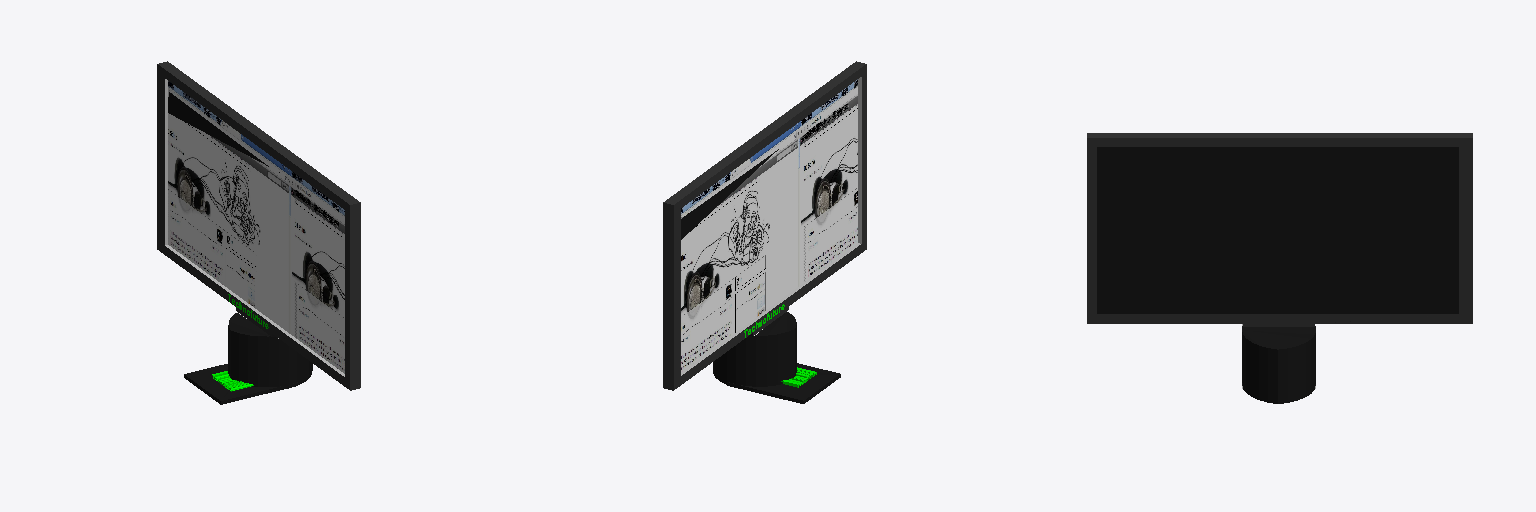
3 renders of one model, left to right at view 1: azimuth 30°, elevation 25°; view 2: azimuth 150°, elevation 25°; view 3: azimuth 270°, elevation 25°, orthographic.
Parts seen in each view (by area): view 1: mesh40-geometry-4, mesh40-geometry-2, mesh40-geometry-0, mesh40-geometry-5; view 2: mesh40-geometry-4, mesh40-geometry-2, mesh40-geometry-0, mesh40-geometry-5; view 3: mesh40-geometry-0, mesh40-geometry-2.
Boxes of the visible parts, <box> form: mesh40-geometry-4: <box>168,81,344,373</box>; mesh40-geometry-2: <box>157,61,360,390</box>; mesh40-geometry-0: <box>168,92,312,404</box>; mesh40-geometry-5: <box>165,79,344,376</box>; mesh40-geometry-4: <box>681,79,857,371</box>; mesh40-geometry-2: <box>663,61,866,390</box>; mesh40-geometry-0: <box>681,149,840,403</box>; mesh40-geometry-5: <box>681,77,861,375</box>; mesh40-geometry-0: <box>1097,147,1458,403</box>; mesh40-geometry-2: <box>1087,133,1472,326</box>.
Bounding box in the file's own units: 0.2559 × 0.5529 × 0.793.
Materials: 7 (1 with a texture image).